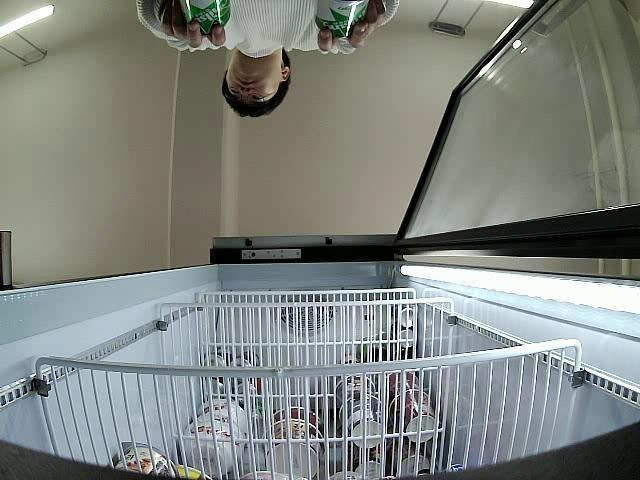12_chilsungCider: (315, 0, 369, 41), (181, 0, 230, 36)
